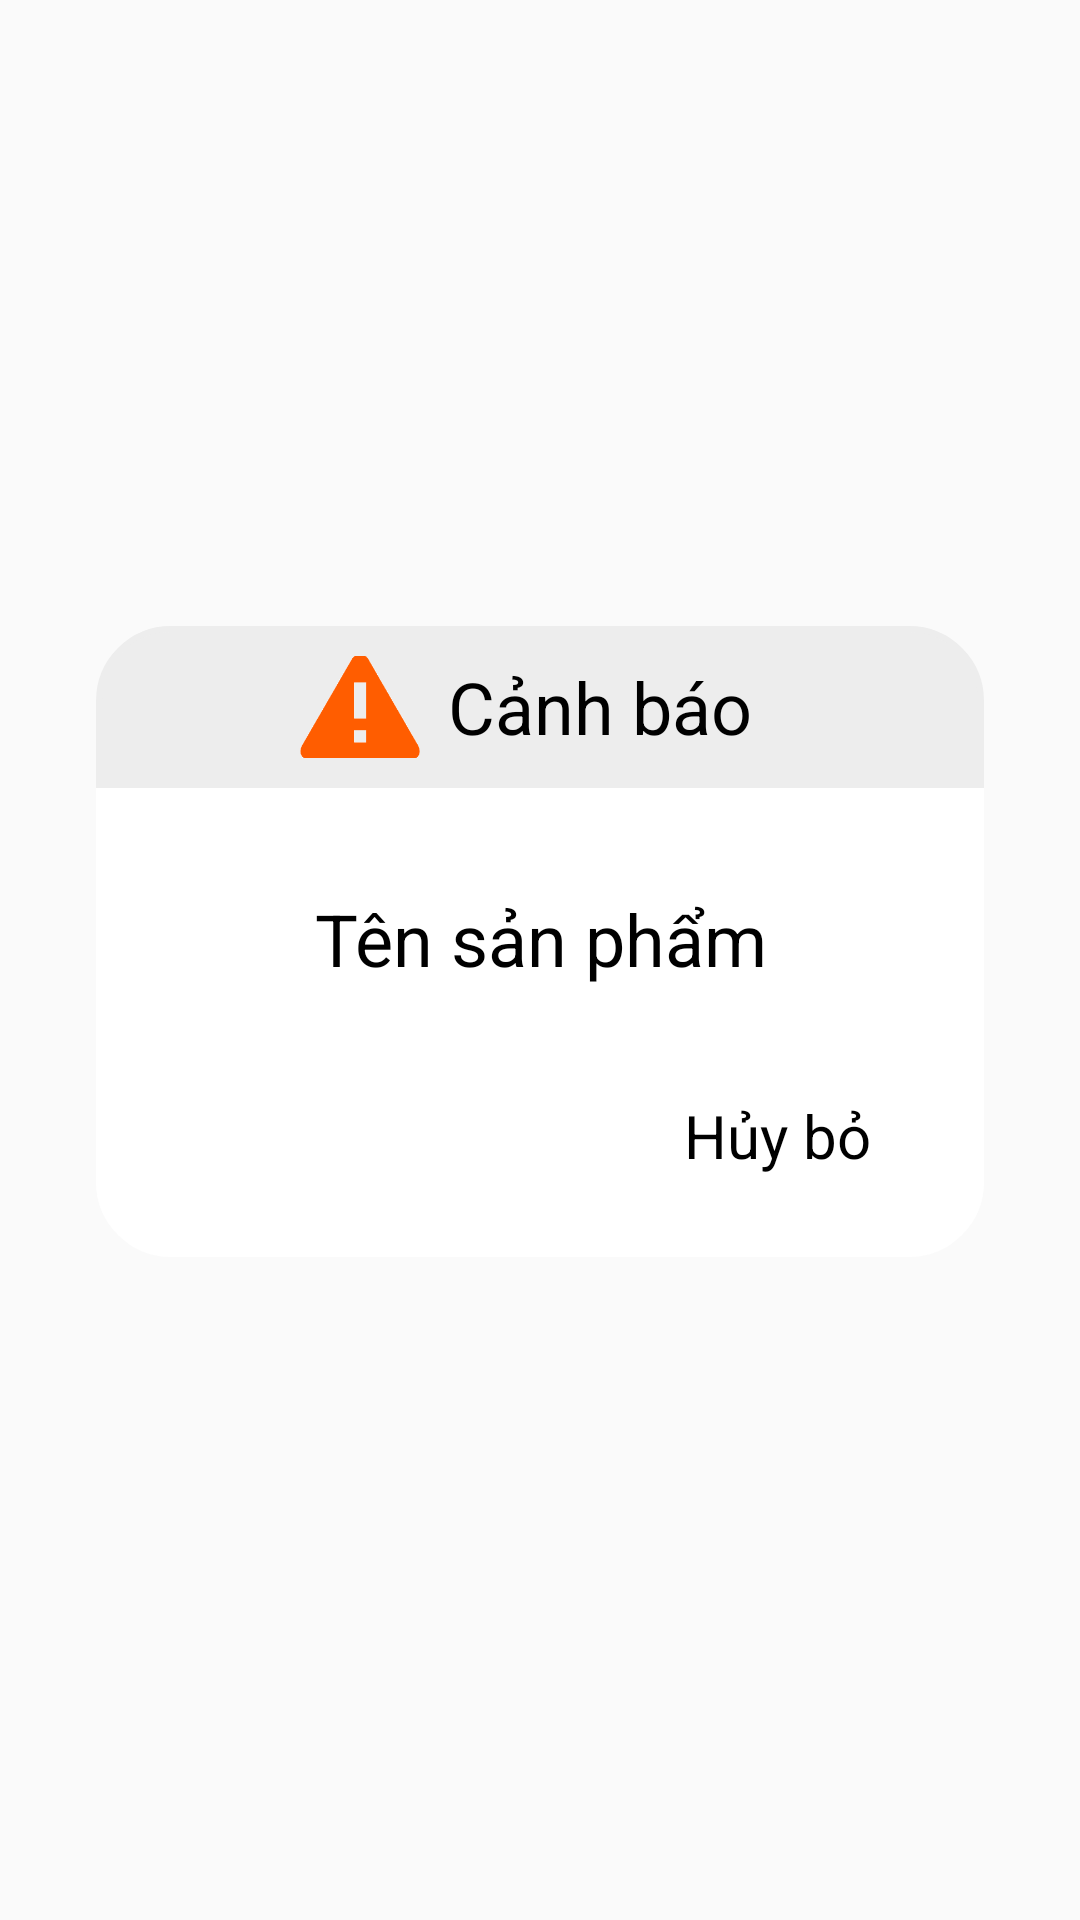

Icons on this 1080px x 1920px Android screen, each with the point to tap as point (x, y):
warning: point (360, 707)
